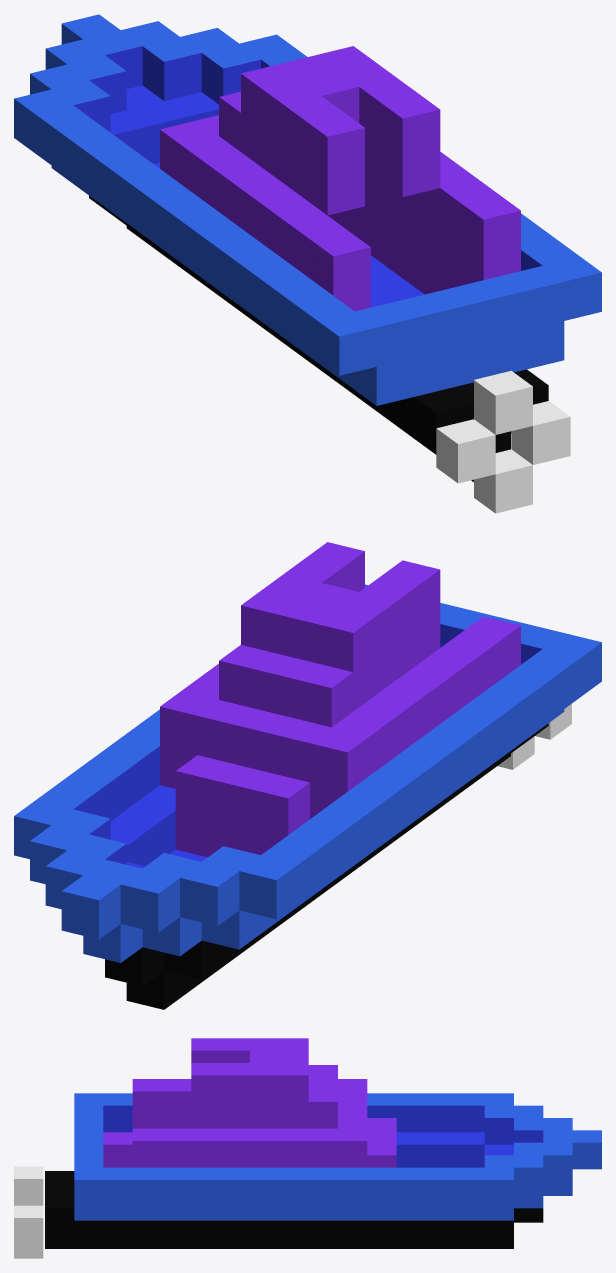
The model's file is boat.glb.
3 renders of one model, top to bottom at view 1: azimuth 30°, elevation 25°; view 2: azimuth 150°, elevation 25°; view 3: azimuth 270°, elevation 25°, orthographic. The views are drawn at different scales.
Visible parts, largest first — view 1: Boat, Propeller; view 2: Boat, Propeller; view 3: Boat, Propeller.
Part boxes in pixels (left/top/right/bottom): Boat: left=14, top=14, right=601, bottom=481; Propeller: left=436, top=370, right=570, bottom=513; Boat: left=14, top=542, right=601, bottom=1009; Propeller: left=497, top=704, right=571, bottom=769; Boat: left=45, top=1038, right=601, bottom=1248; Propeller: left=14, top=1166, right=43, bottom=1258.
Bounding box in the file's own units: 1.75 × 1.84 × 5.01.
1 material, 1 textured.
